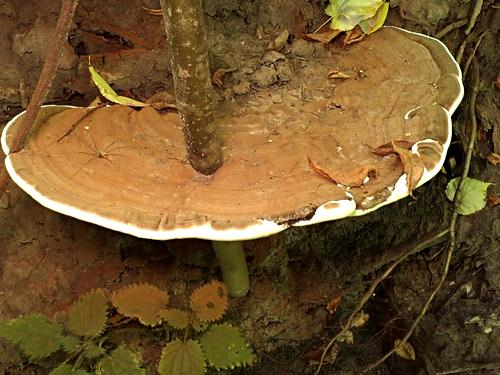Ganoderma - Fruit Body: (0, 24, 468, 246)
